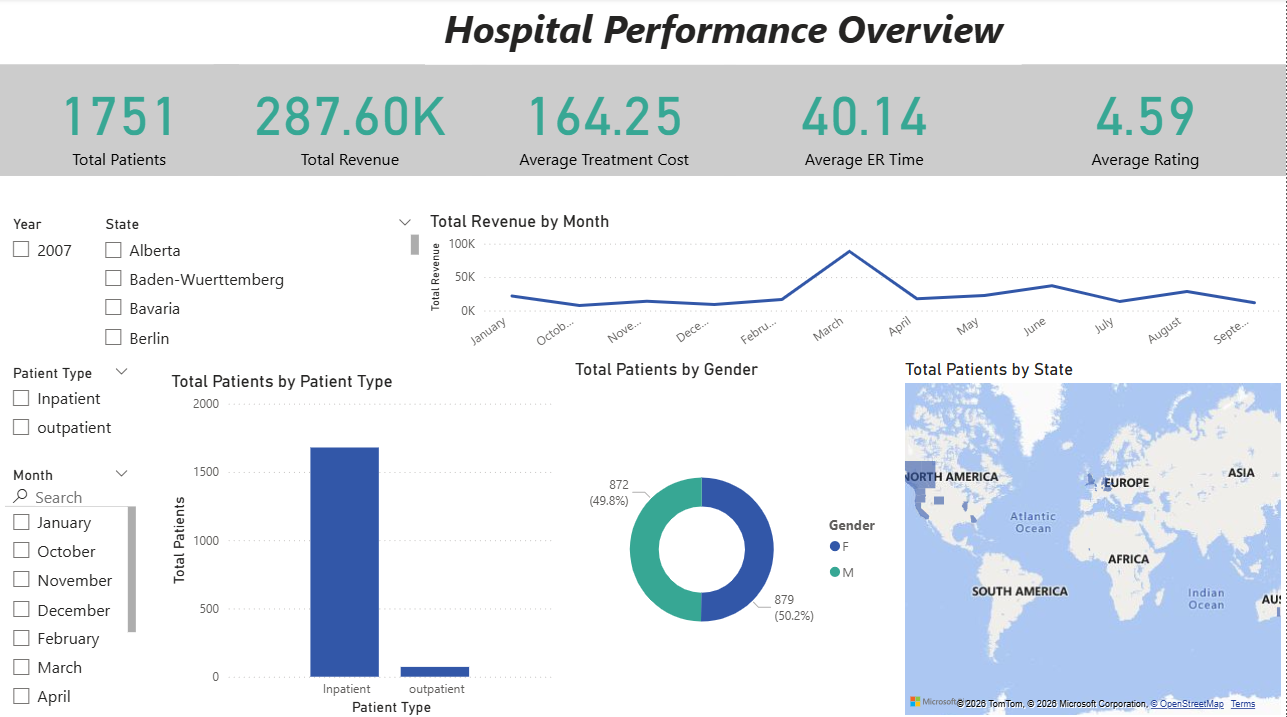

Layout of this report page (visuals, bound fields, positions):
{"tool":"powerbi","page":{"name":"Hospital Overview","canvas":[1280,720],"ordinal":0},"visuals":[{"type":"card","fields":{"Values":["Bed_Detail.Total Patients"]},"box":[0,66.2,237.5,111.2],"z":0},{"type":"card","fields":{"Values":["Bed_Detail.Total Revenue"]},"box":[212.5,66.2,271.2,111.2],"z":1000},{"type":"card","fields":{"Values":["Bed_Detail.Average Treatment Cost"]},"box":[470,66.2,262.5,111.2],"z":2000},{"type":"card","fields":{"Values":["Bed_Detail.Average ER Time"]},"box":[720,66.2,280,111.2],"z":3000},{"type":"card","fields":{"Values":["Bed_Detail.Average Rating"]},"box":[1000,66.2,280,111.2],"z":4000},{"type":"lineChart","fields":{"Category":["Detail data dataset.Month"],"Y":["Bed_Detail.Total Revenue"]},"box":[422.5,211.2,857.5,148.8],"z":5000},{"type":"columnChart","fields":{"Category":["Detail data dataset.Patient Type"],"Y":["Bed_Detail.Total Patients"]},"box":[165,371.2,391.2,348.8],"z":6000},{"type":"donutChart","fields":{"Category":["Detail data dataset.Gender"],"Y":["Bed_Detail.Total Patients"]},"box":[567.5,360,328.8,360],"z":7000},{"type":"filledMap","fields":{"Category":["Detail data dataset.State"]},"box":[896.2,360,383.8,360],"z":8000},{"type":"slicer","fields":{"Values":["Detail data dataset.Year"]},"box":[0,211.2,117.5,70],"z":9000},{"type":"slicer","fields":{"Values":["Detail data dataset.Month"]},"box":[0,461.2,140,258.8],"z":10000},{"type":"slicer","fields":{"Values":["Detail data dataset.State"]},"box":[92.5,211.2,330,140],"z":11000},{"type":"slicer","fields":{"Values":["Detail data dataset.Patient Type"]},"box":[0,360,140,101.2],"z":12000},{"type":"textbox","box":[422.5,0,593.8,66.2],"z":13000}]}

Visuals, with their boxes in screenshot pixels (x1, y1, x2, y2), scaled from the page's 1280x720 canvas onto the 1287x717 screenshot:
card - Bed_Detail.Total Patients: box(0, 66, 239, 177)
card - Bed_Detail.Total Revenue: box(214, 66, 486, 177)
card - Bed_Detail.Average Treatment Cost: box(473, 66, 737, 177)
card - Bed_Detail.Average ER Time: box(724, 66, 1005, 177)
card - Bed_Detail.Average Rating: box(1005, 66, 1286, 177)
lineChart - Detail data dataset.Month x Bed_Detail.Total Revenue: box(425, 210, 1286, 358)
columnChart - Detail data dataset.Patient Type x Bed_Detail.Total Patients: box(166, 370, 559, 716)
donutChart - Detail data dataset.Gender x Bed_Detail.Total Patients: box(571, 358, 901, 716)
filledMap - Detail data dataset.State: box(901, 358, 1286, 716)
slicer - Detail data dataset.Year: box(0, 210, 118, 280)
slicer - Detail data dataset.Month: box(0, 459, 141, 716)
slicer - Detail data dataset.State: box(93, 210, 425, 350)
slicer - Detail data dataset.Patient Type: box(0, 358, 141, 459)
textbox: box(425, 0, 1022, 66)
